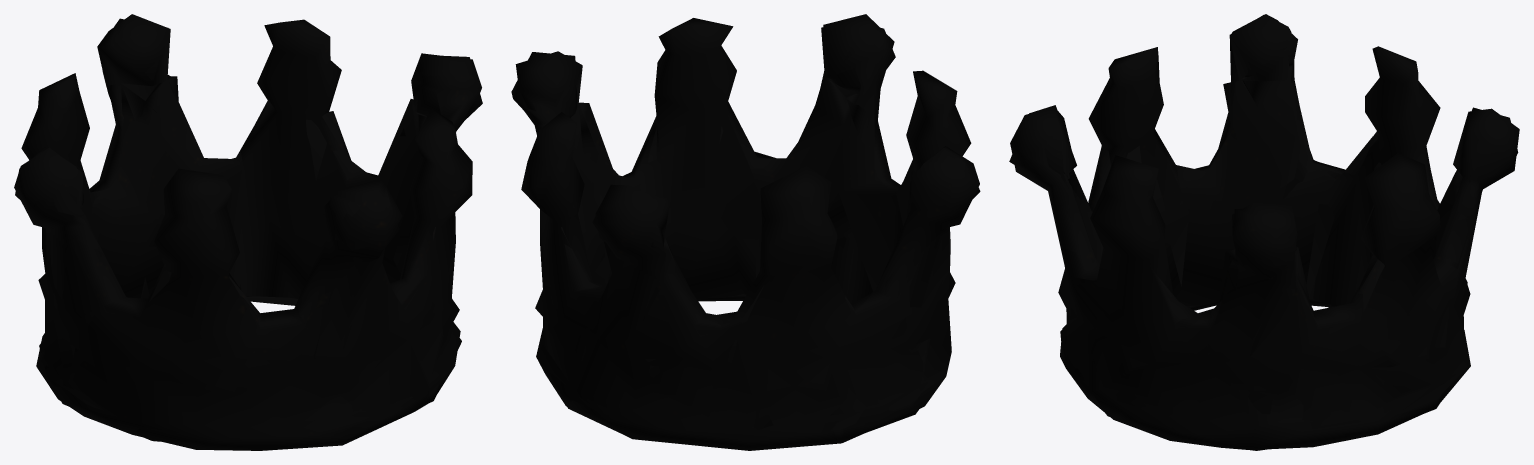
File: hat-crown.glb
3 views of the same model, side by side, from view 1: azimuth 30°, elevation 25°; view 2: azimuth 150°, elevation 25°; view 3: azimuth 270°, elevation 25° (orthographic). The views are drawn at different scales.
Visible parts, largest first — view 1: Body; view 2: Body; view 3: Body.
Boxes of the visible parts, x1=… form: Body: x1=14, y1=14, x2=482, y2=450; Body: x1=511, y1=14, x2=980, y2=450; Body: x1=1009, y1=14, x2=1519, y2=450.
Bounding box in the file's own units: 0.996 × 0.5786 × 0.9901.
1 material, 1 textured.
